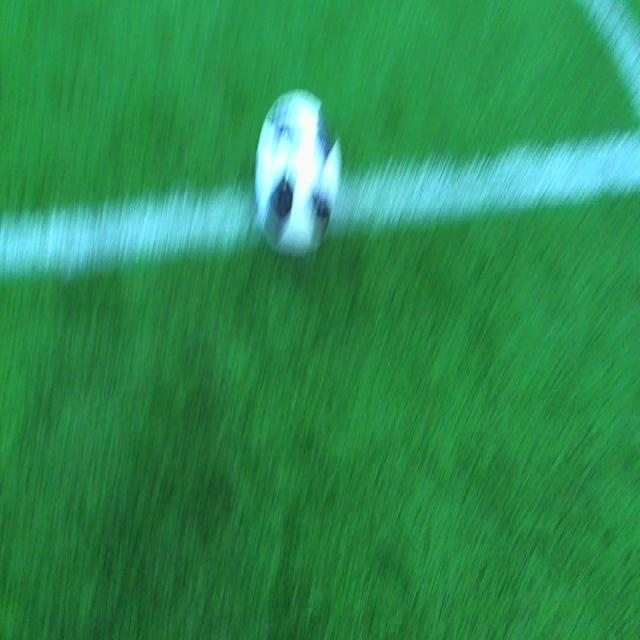ball: (253, 89, 341, 263)
